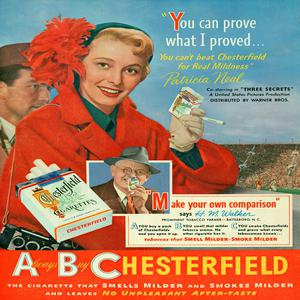cigarette: (197, 109, 228, 129)
